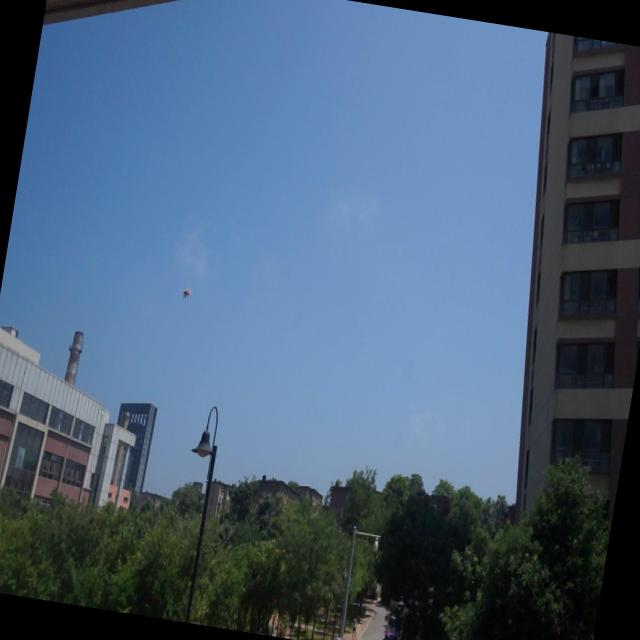drone: (178, 282, 194, 304)
